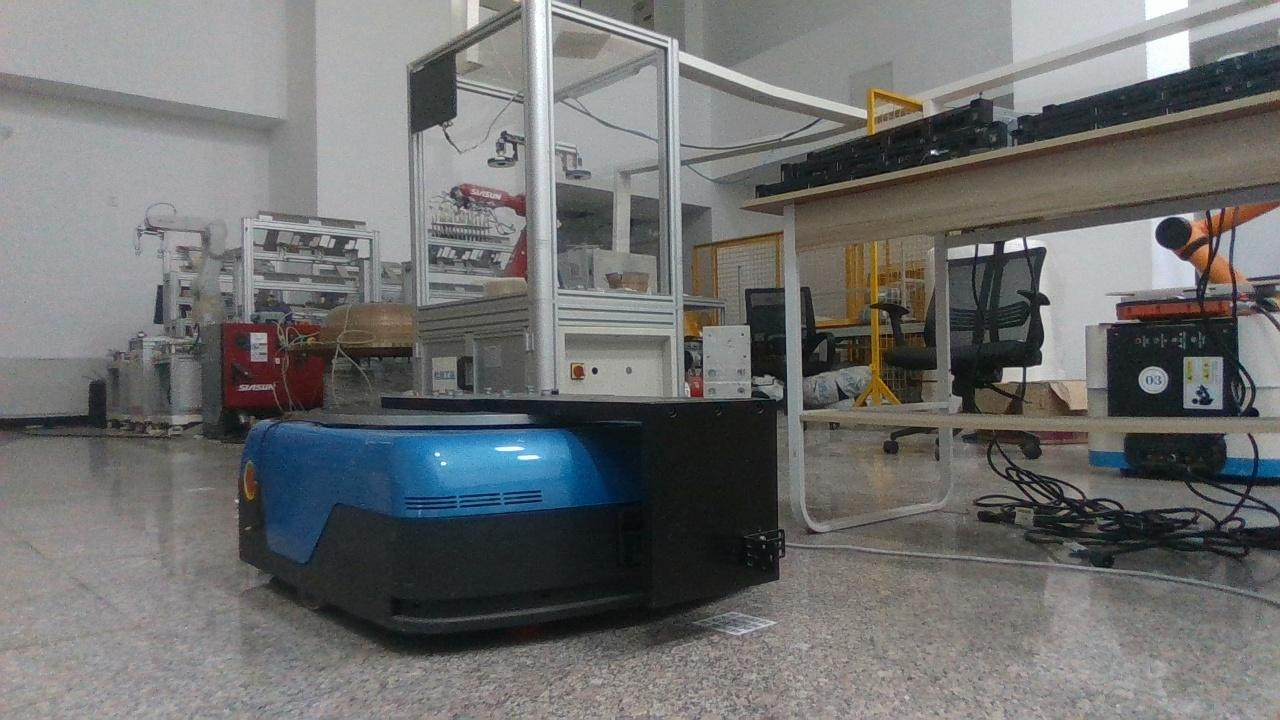AGV: (240, 395, 786, 631)
